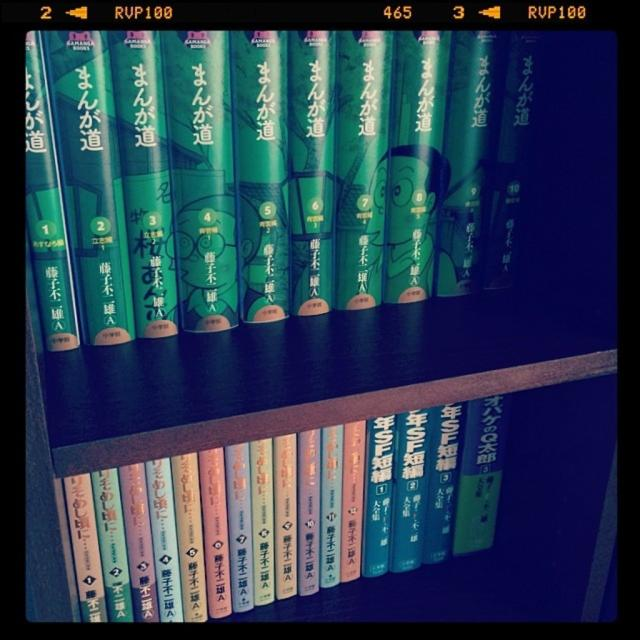Book: (43, 28, 136, 351), (101, 29, 180, 337), (166, 28, 243, 326), (226, 28, 293, 322), (21, 32, 80, 358), (384, 32, 453, 301), (438, 29, 504, 302), (332, 28, 393, 315), (368, 403, 460, 579), (480, 29, 540, 294), (288, 31, 339, 315), (455, 394, 508, 553), (114, 462, 163, 624), (87, 470, 135, 623), (64, 472, 110, 627), (141, 455, 183, 621), (195, 447, 236, 615), (171, 451, 209, 621), (223, 440, 255, 612), (292, 430, 324, 596), (272, 432, 301, 603), (339, 421, 368, 587), (319, 422, 347, 586), (249, 438, 276, 606)
